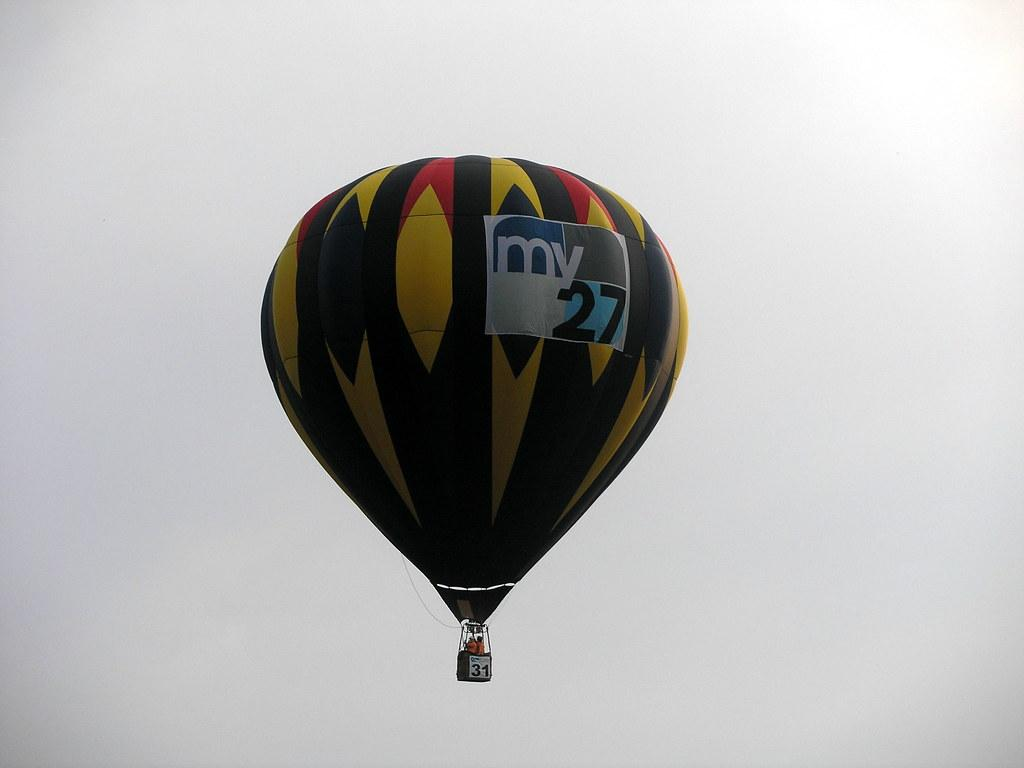balloon: (259, 153, 690, 683)
